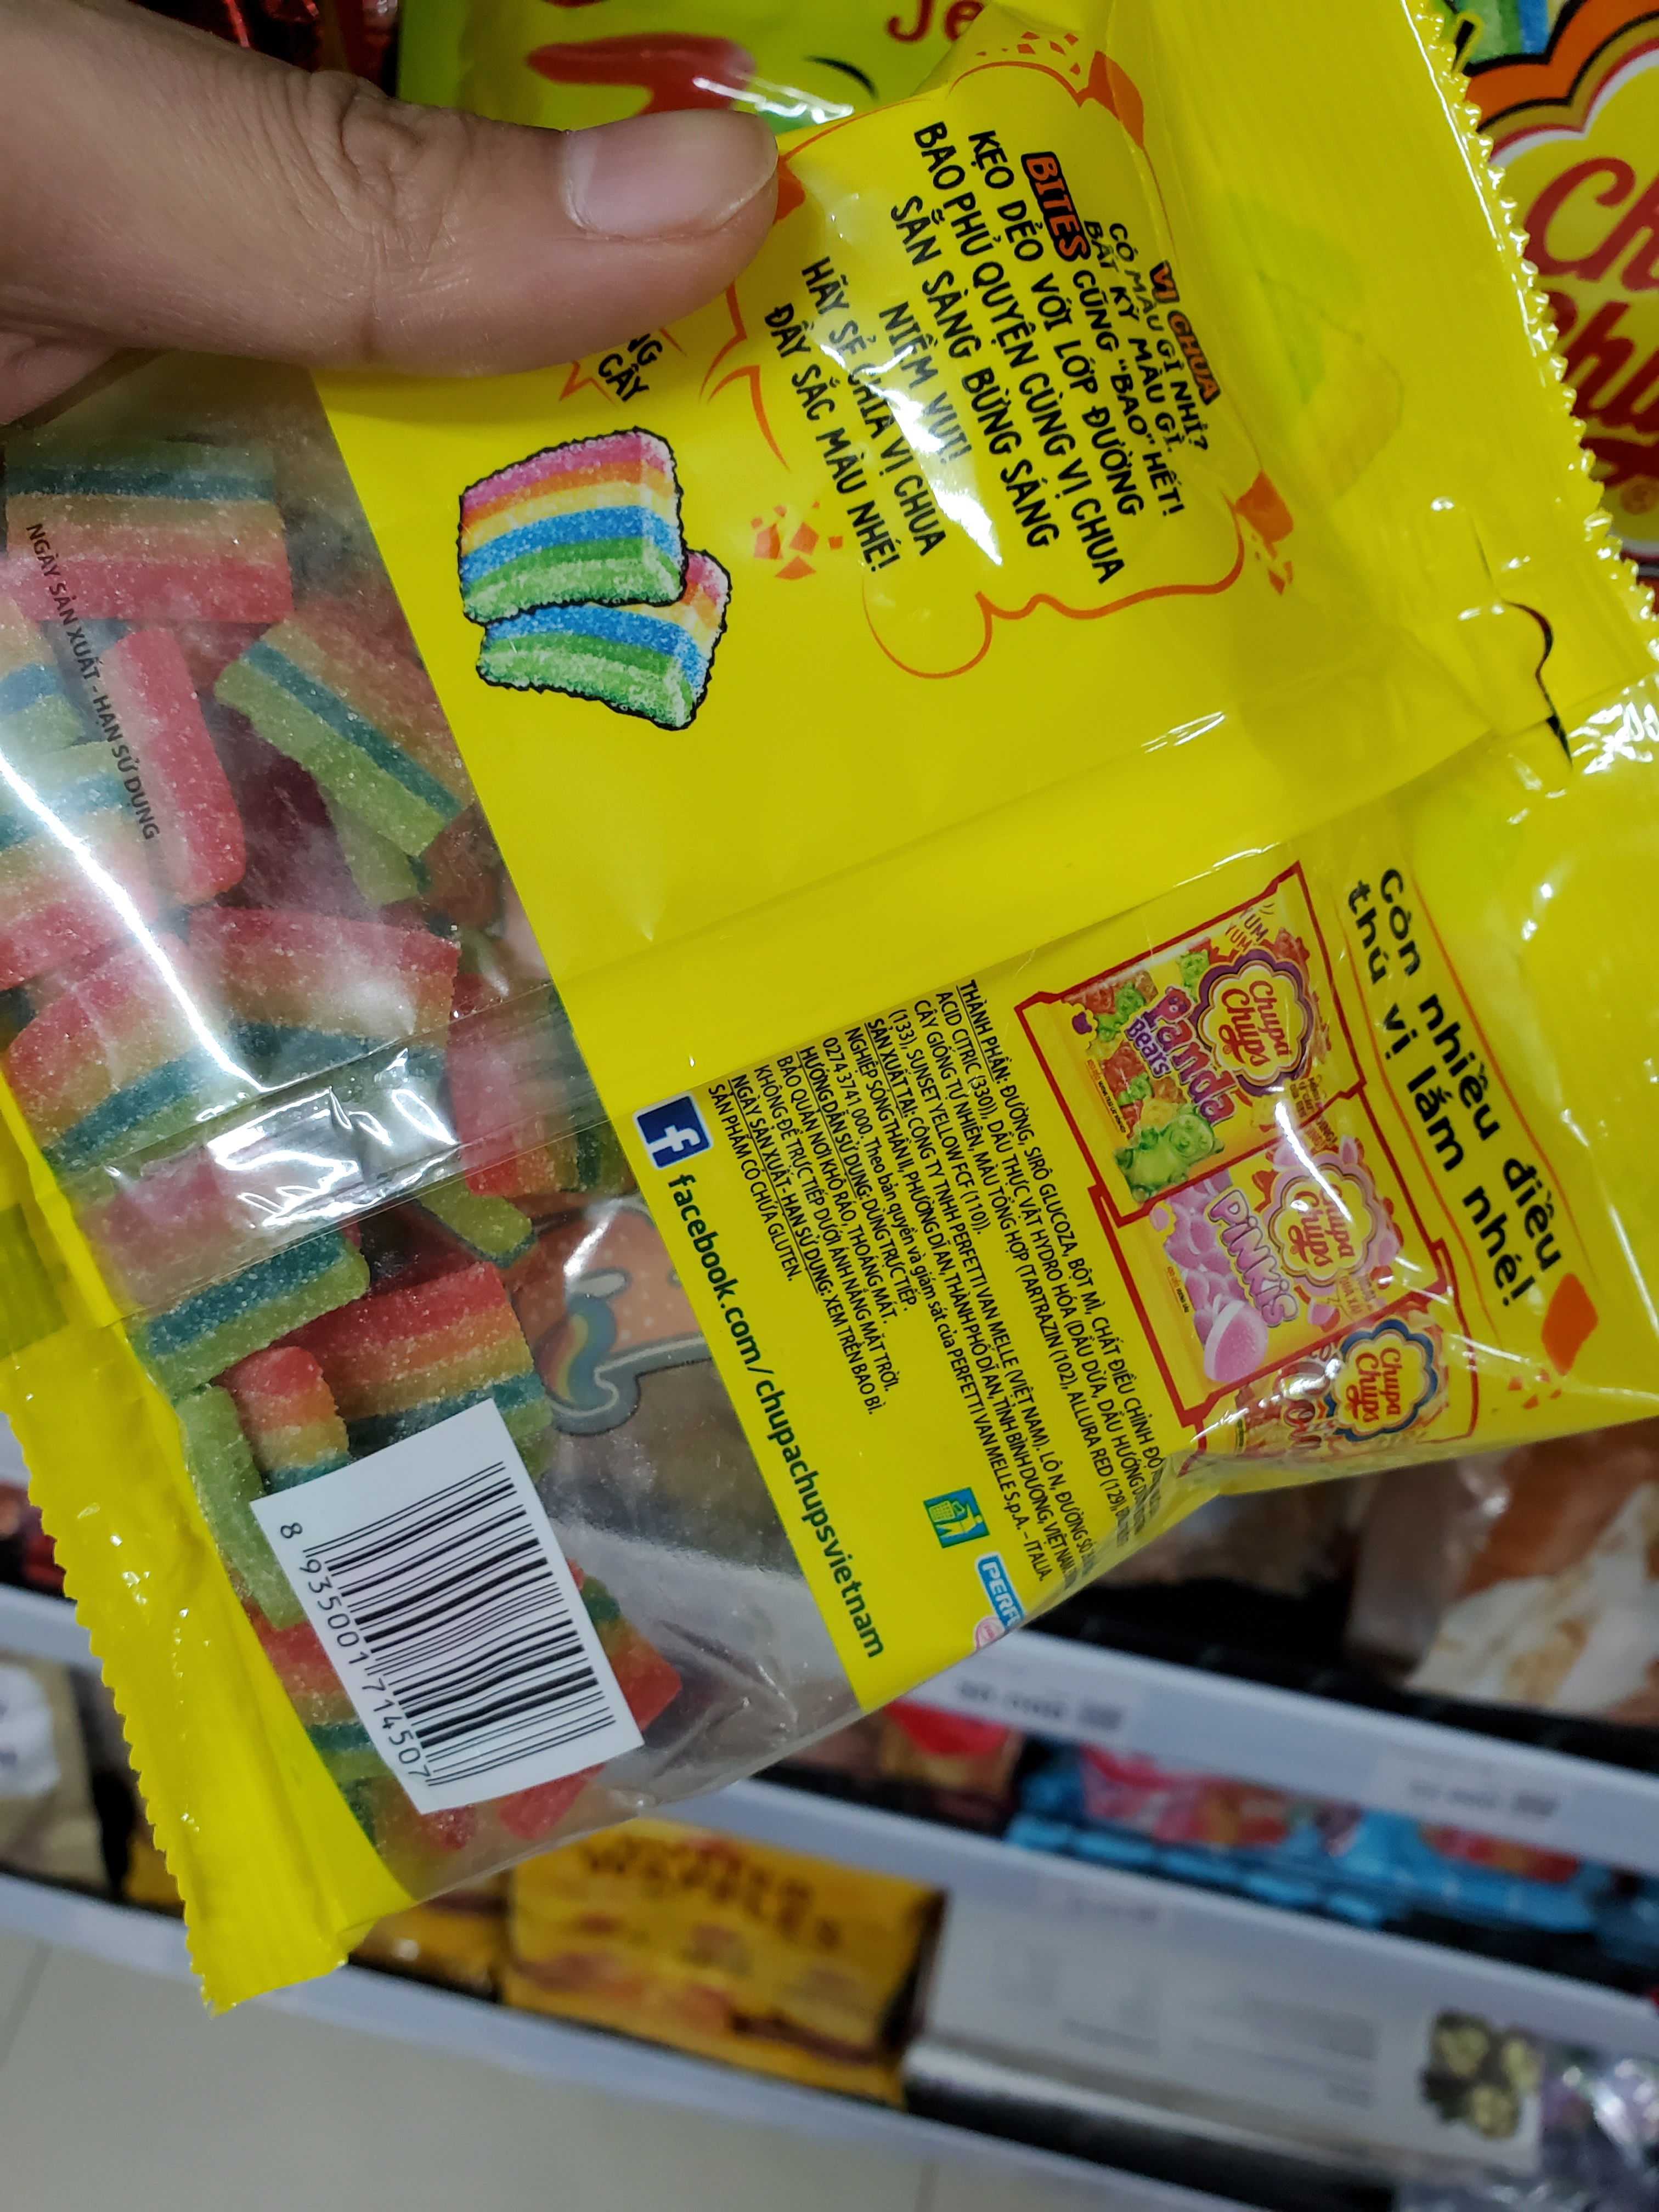barcode: (240, 1451, 629, 1834)
